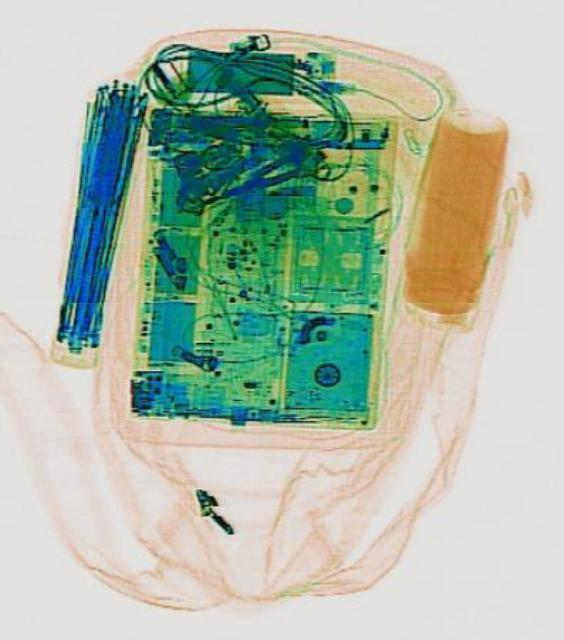Pliers: (219, 146, 303, 202)
